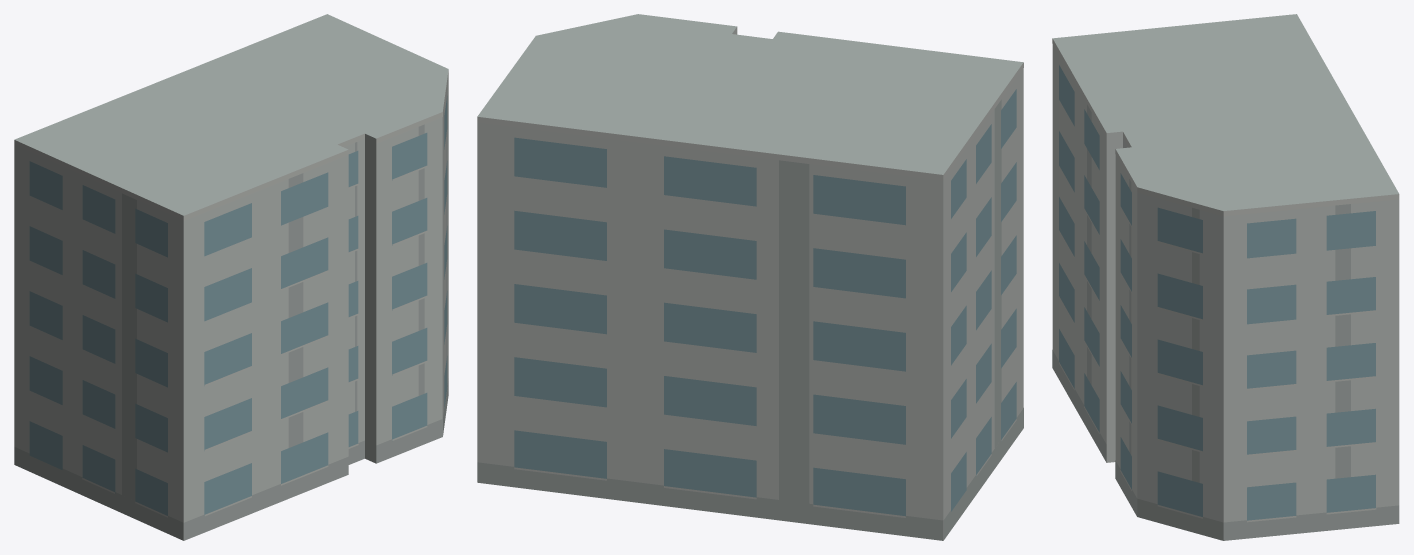
The model's file is survey-upis-32981294.glb.
3 renders of one model, left to right at view 1: azimuth 30°, elevation 25°; view 2: azimuth 150°, elevation 25°; view 3: azimuth 270°, elevation 25°, orthographic. The views are drawn at different scales.
Parts seen in each view (by area): view 1: survey-upis-32981294.tmp; view 2: survey-upis-32981294.tmp; view 3: survey-upis-32981294.tmp.
Part boxes in pixels (x1,y1,x2,y2): survey-upis-32981294.tmp: [14, 14, 448, 540]; survey-upis-32981294.tmp: [477, 14, 1023, 540]; survey-upis-32981294.tmp: [1052, 14, 1399, 540].
Bounding box in the file's own units: 19.56 × 15.25 × 14.55.
